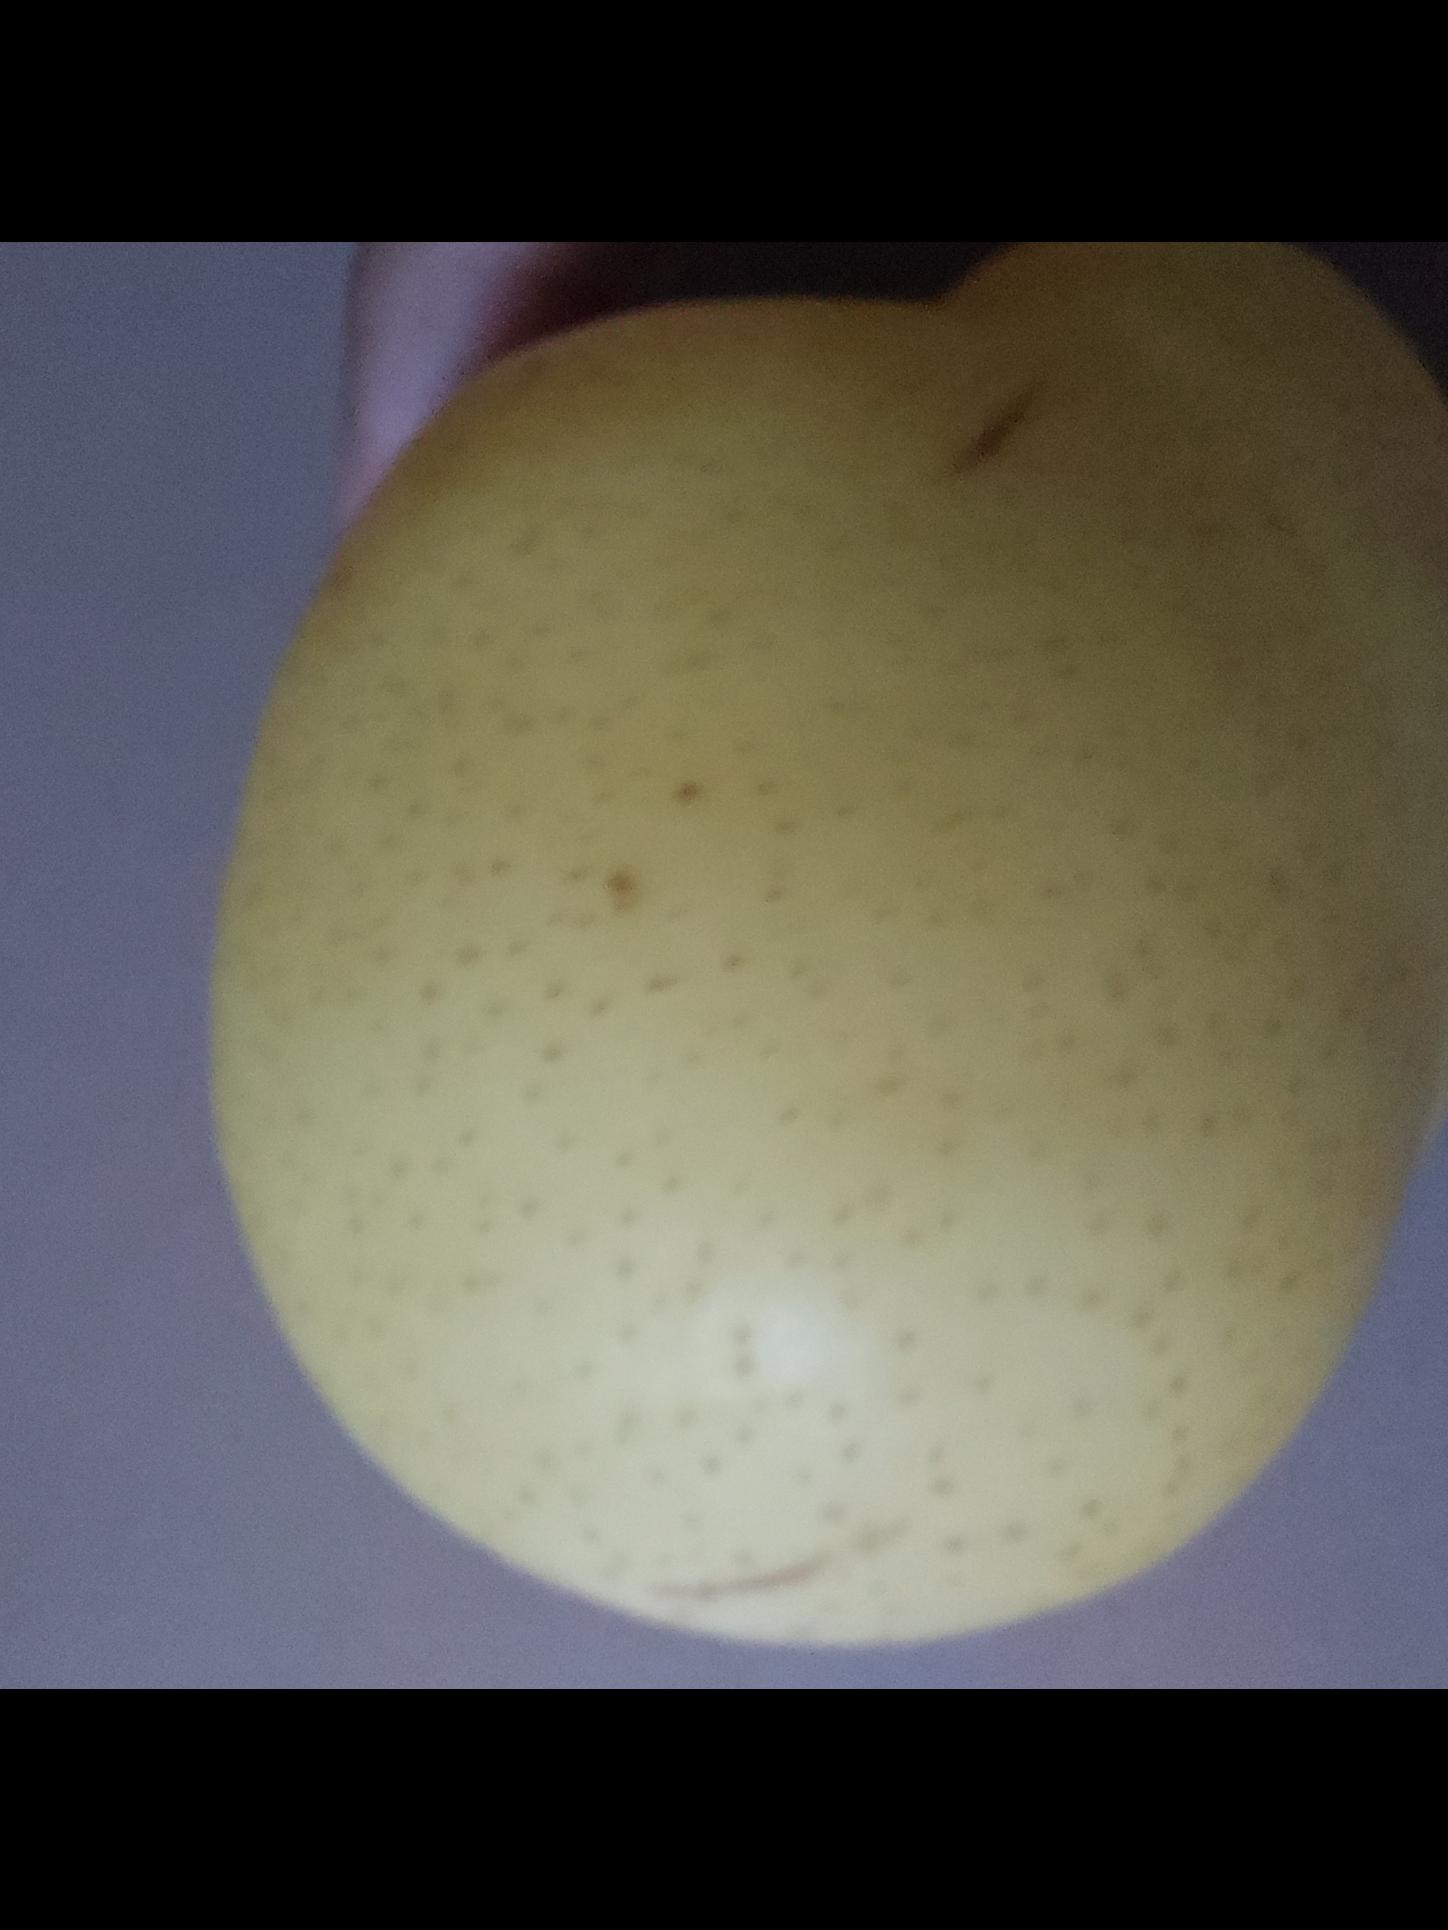Good Pear: (196, 241, 1448, 1665)
